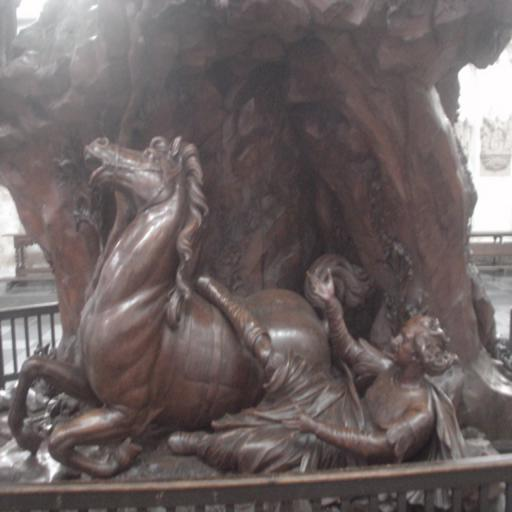horse: (6, 132, 380, 480)
